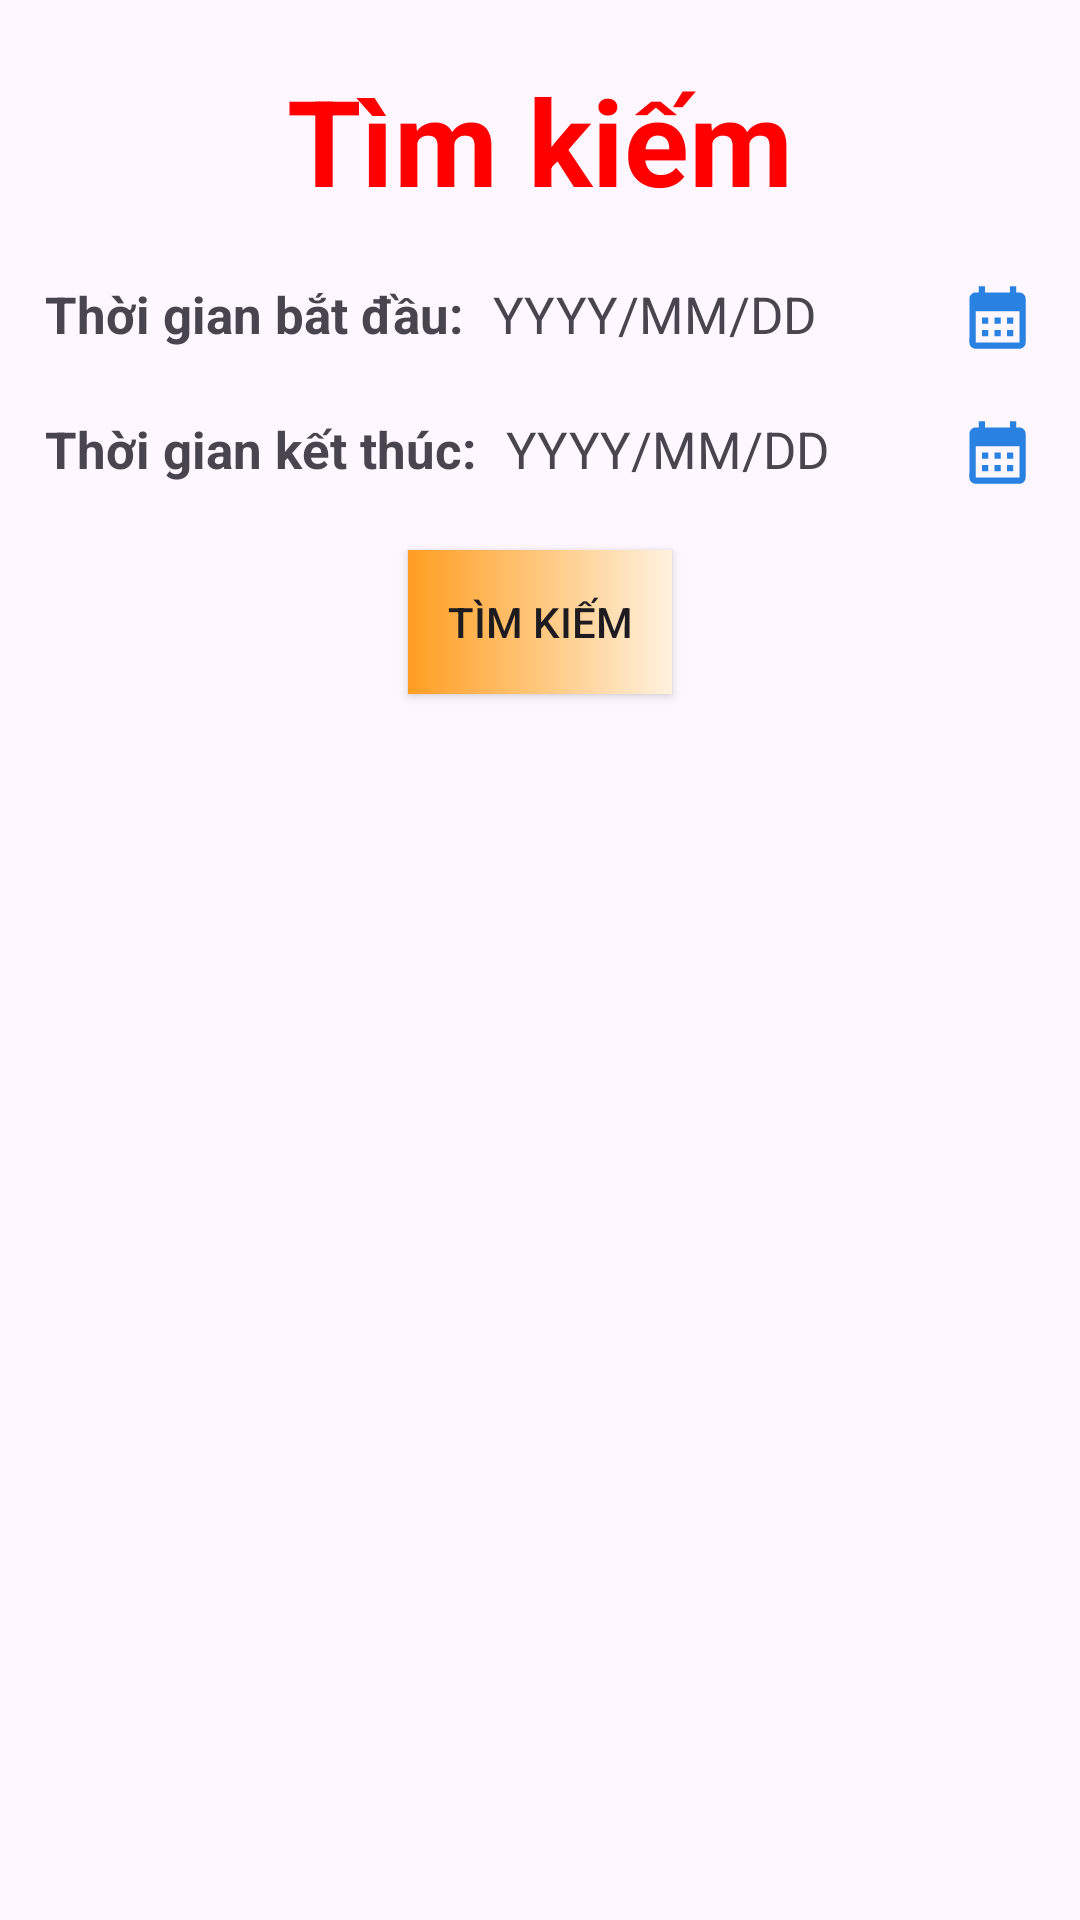

Icons on this 1080×1920 Android screen, each with its box as region(x1, y1, x2, y2):
calendar month: region(969, 286, 1026, 349), region(969, 421, 1026, 484)
